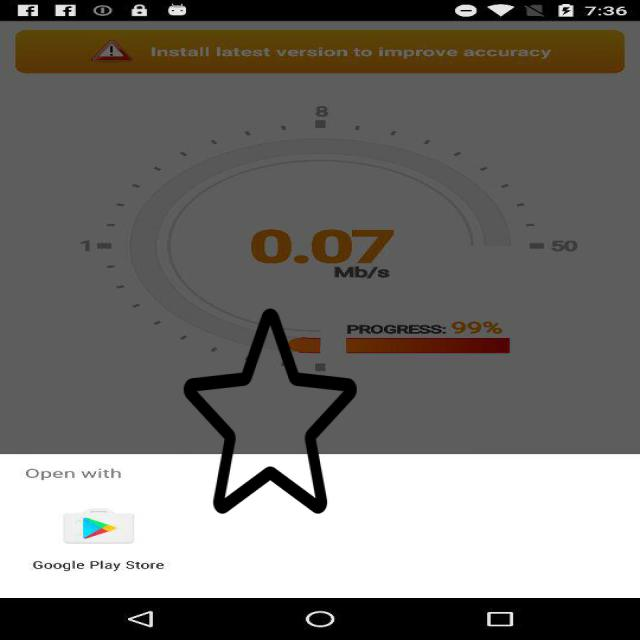forced continuity: (184, 304, 356, 518)
